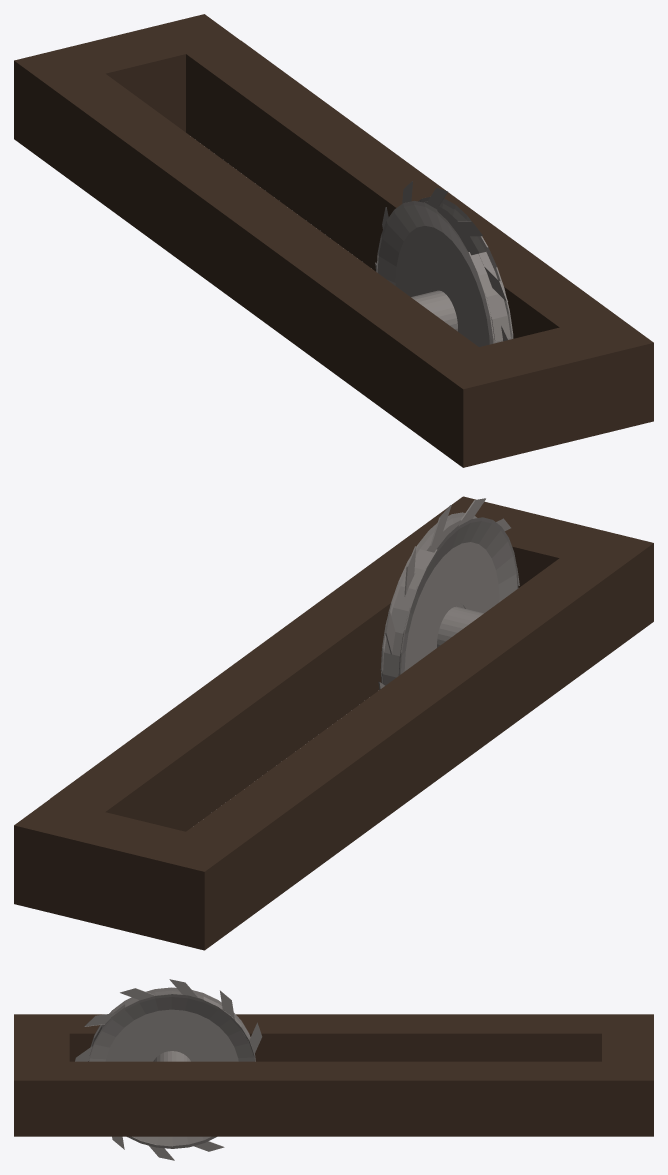
File: ebATpILA_ (1) 1.fbx
The picture shows the model from 3 angles, top to bottom: view 1: azimuth 30°, elevation 25°; view 2: azimuth 150°, elevation 25°; view 3: azimuth 270°, elevation 25°; orthographic projection. The views are drawn at different scales.
Visible parts, largest first — view 1: Cube, Cylinder.001; view 2: Cube, Cylinder.001; view 3: Cube, Cylinder.001.
Part boxes in pixels (bbox=[...]): Cube: bbox=[14, 14, 653, 467]; Cylinder.001: bbox=[375, 181, 513, 346]; Cube: bbox=[14, 496, 653, 950]; Cylinder.001: bbox=[378, 498, 519, 689]; Cube: bbox=[14, 1014, 653, 1136]; Cylinder.001: bbox=[75, 979, 262, 1160].
Bounding box in the file's own units: 187 × 238 × 763.
